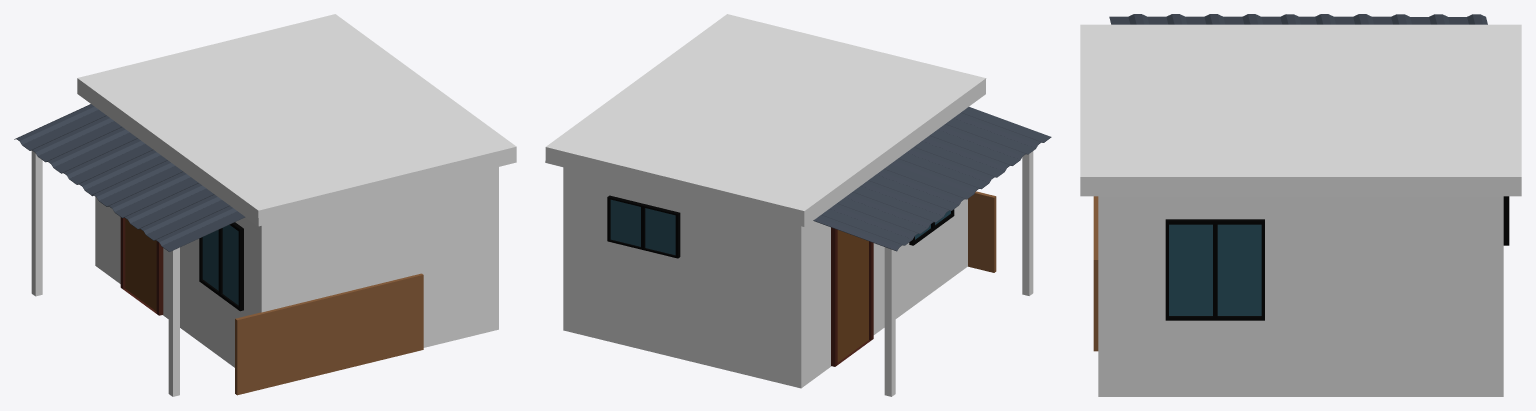
File: Slum 6.fbx
3 views of the same model, side by side, from view 1: azimuth 30°, elevation 25°; view 2: azimuth 150°, elevation 25°; view 3: azimuth 270°, elevation 25° (orthographic). The views are drawn at different scales.
Visible parts, largest first — view 1: Cube.005, Cube.004, Cube.006, Roof.003, Cube.019, Wood 1.001, Door.007, Window 1.014; view 2: Cube.005, Cube.004, Roof.003, Cube.019, Door.007, Window 2.012, Wood 1.001, Cube.006; view 3: Cube.005, Cube.019, Window 1.015, Roof.003, Cube.006.
Part boxes in pixels (x1,y1,x2,y2): Cube.005: (77,14,516,226); Cube.004: (261,167,498,347); Cube.006: (235,273,423,395); Roof.003: (14,104,245,251); Cube.019: (95,197,261,367); Wood 1.001: (31,150,179,396); Door.007: (120,217,163,315); Window 1.014: (199,222,243,311); Cube.005: (545,14,986,226); Cube.004: (563,167,801,388); Roof.003: (813,107,1051,251); Cube.019: (801,199,967,387); Door.007: (831,227,873,366); Window 2.012: (607,195,680,258); Wood 1.001: (884,151,1033,396); Cube.006: (968,191,996,272); Cube.005: (1080,24,1521,196); Cube.019: (1098,196,1503,396); Window 1.015: (1165,219,1264,320); Roof.003: (1109,14,1487,24); Cube.006: (1093,196,1098,351).
Bounding box in the file's own units: 554 × 293 × 518.
